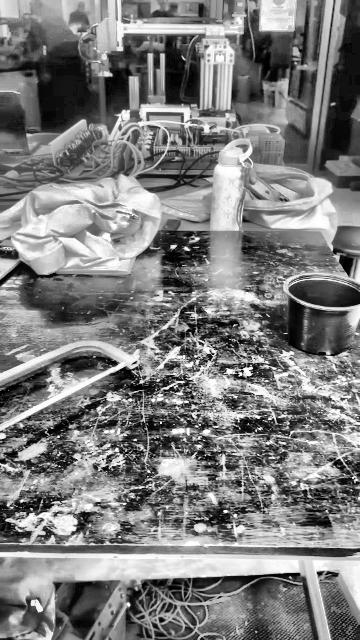pot: (282, 271, 360, 355)
